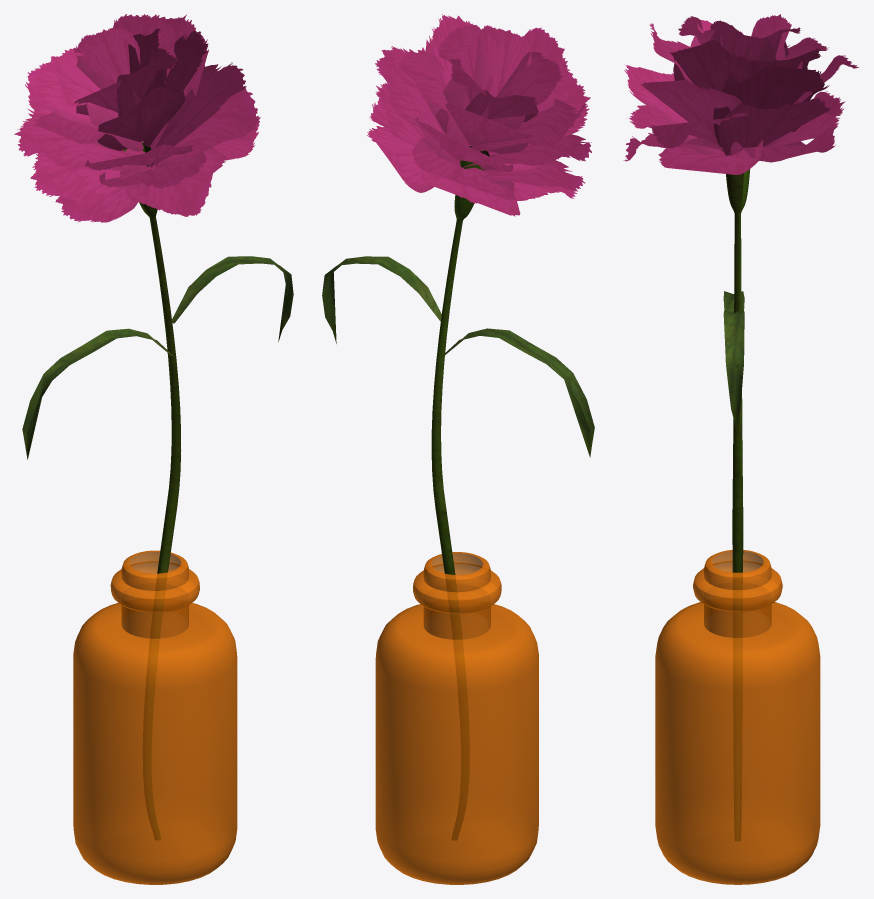
File: single_flower__carnation_pink.glb
3 views of the same model, side by side, from view 1: azimuth 30°, elevation 25°; view 2: azimuth 150°, elevation 25°; view 3: azimuth 270°, elevation 25° (orthographic).
Visible parts, largest first — view 1: Cylinder.019_3, BezierCurve.002_4, BezierCurve.001_0, Plane.101_2, Plane.100_1; view 2: Cylinder.019_3, BezierCurve.002_4, BezierCurve.001_0, Plane.101_2, Plane.100_1; view 3: Cylinder.019_3, BezierCurve.002_4, BezierCurve.001_0, Plane.100_1.
Part boxes in pixels (x1,y1,x2,y2): Cylinder.019_3: (73,550,237,884); BezierCurve.002_4: (14,14,260,222); BezierCurve.001_0: (123,142,181,839); Plane.101_2: (22,328,173,459); Plane.100_1: (172,256,293,341); Cylinder.019_3: (375,552,538,884); BezierCurve.002_4: (367,14,591,216); BezierCurve.001_0: (431,146,489,839); Plane.101_2: (444,328,594,457); Plane.100_1: (322,256,441,343); Cylinder.019_3: (655,550,820,884); BezierCurve.002_4: (623,14,858,174); BezierCurve.001_0: (726,169,749,840); Plane.100_1: (723,310,744,429).
Bounding box in the file's own units: 34.01 × 101 × 26.03.
Materials: 4 (3 with a texture image).
